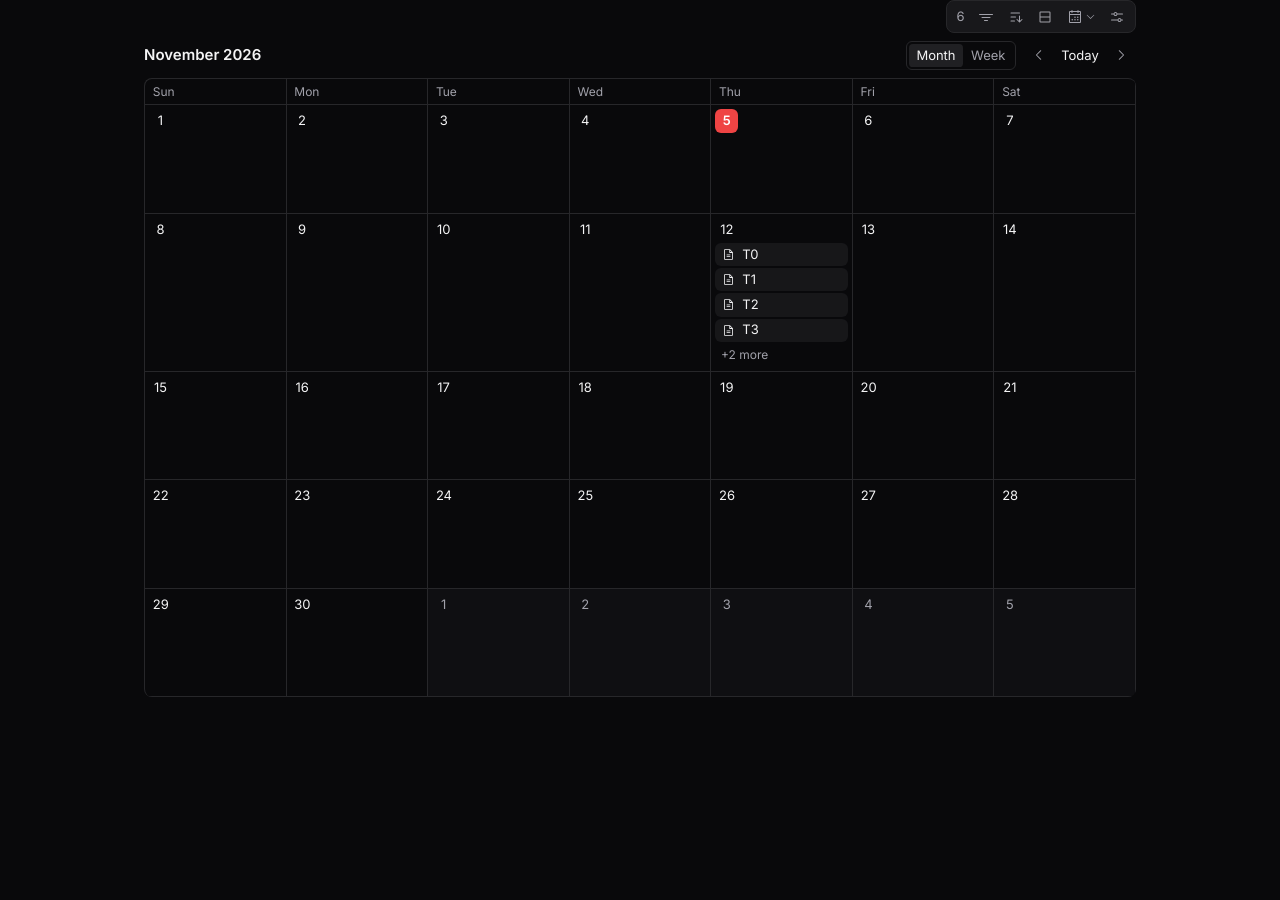
Test: CalendarLayout placement › a day shows 4 chips, then "+N more", which lists the whole day
This screenshot has width=1280, height=900.
Expected: the number of buttons with test id "calendar-chip" is 4, 715,243 -> 848,266; 715,268 -> 848,291; 715,293 -> 848,317; 715,318 -> 848,342
What coordinates should you click on to do the following:
click the button with test id "calendar-more"
I would click on:
 (745, 355)
Its box is 715,344 -> 774,367.
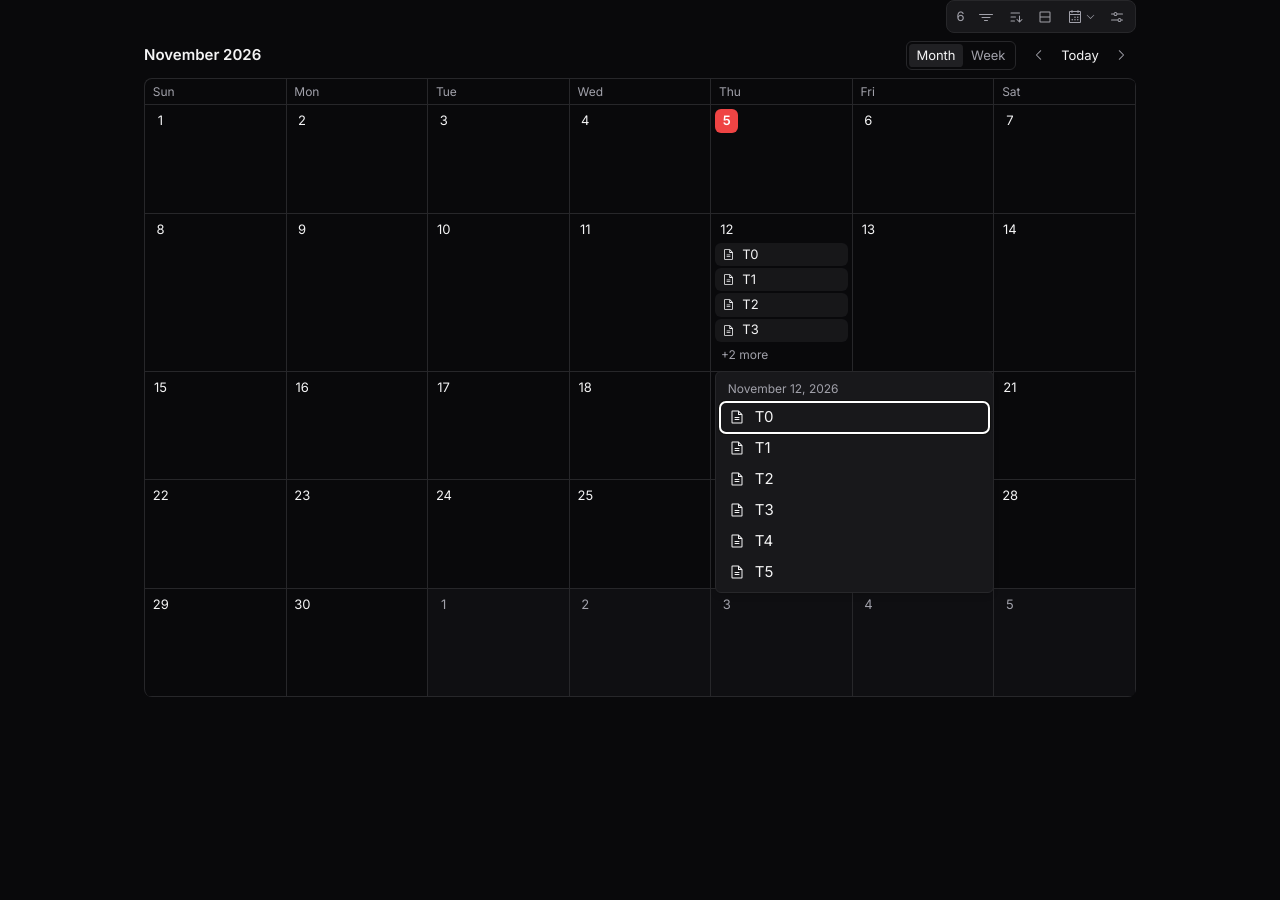
Expected: the number of list items is 6, 720,402 -> 989,433; 720,433 -> 989,464; 720,464 -> 989,495; 720,495 -> 989,526; 720,526 -> 989,557; 720,557 -> 989,588
Expected: the text "November 12, 2026" is shown, 728,381 -> 838,396
